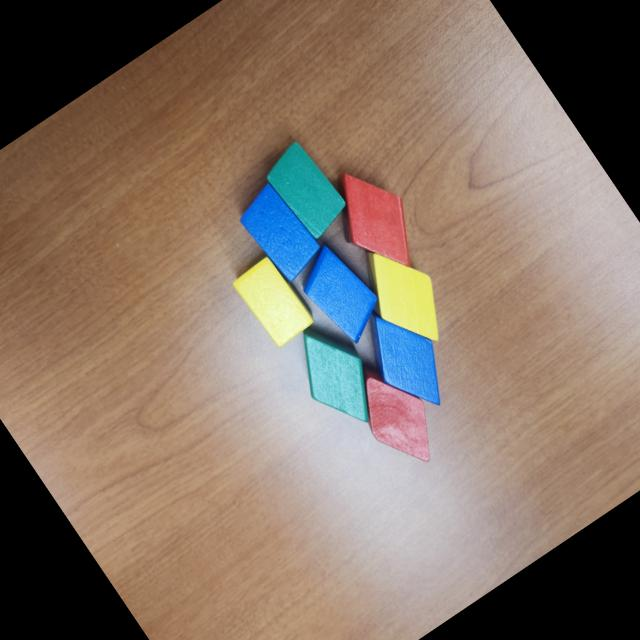blue: (346, 295, 465, 426), (286, 233, 394, 352), (230, 177, 330, 290)
green: (278, 313, 396, 445), (255, 134, 356, 245)
red: (315, 152, 437, 289), (340, 352, 452, 479)
yellow: (347, 232, 463, 361), (230, 250, 321, 350)
